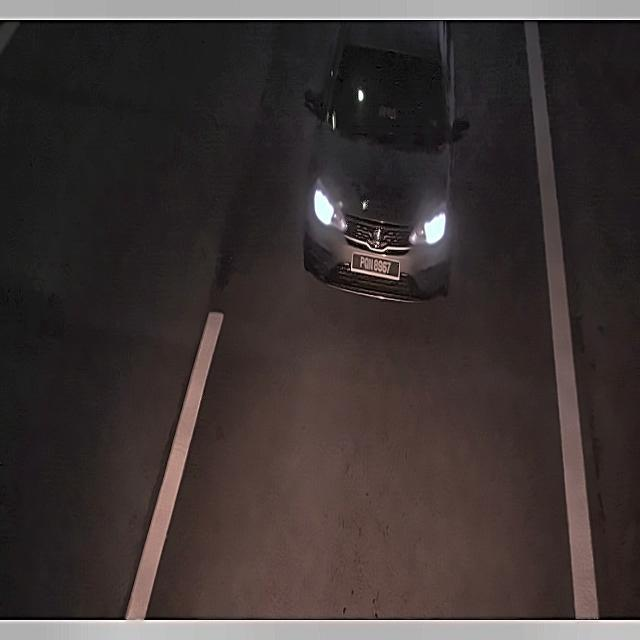car: (349, 246, 402, 288)
